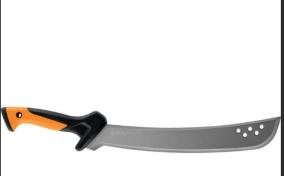MACHETTE: (0, 103, 283, 160)
